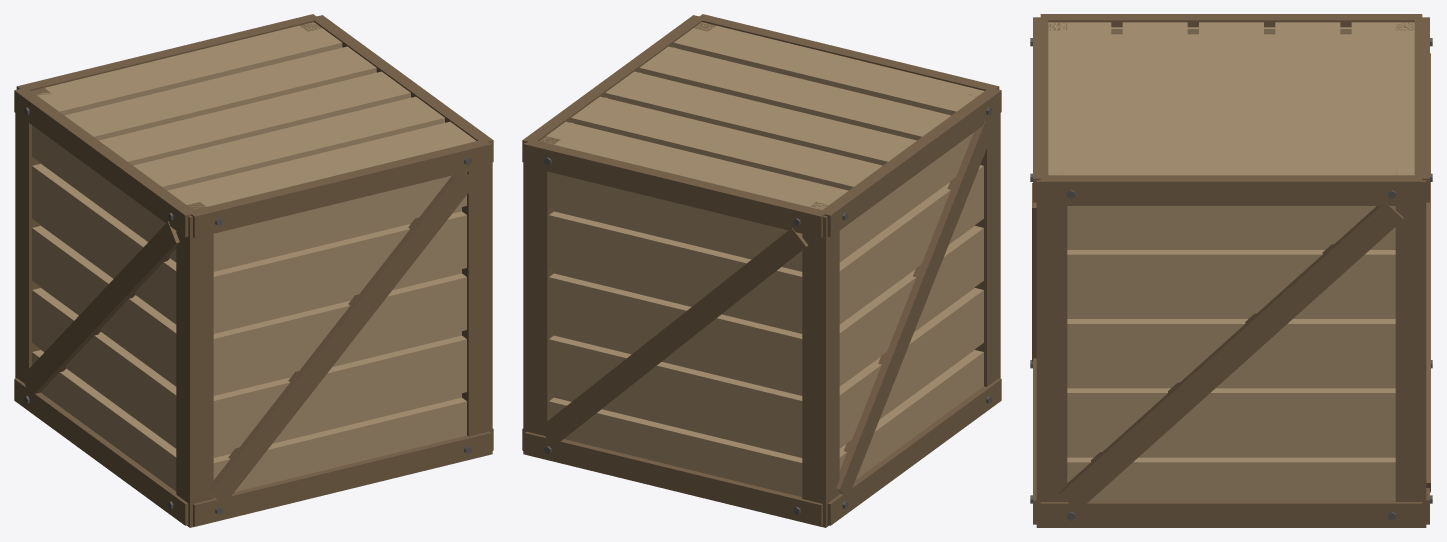
File: crate.glb
3 renders of one model, left to right at view 1: azimuth 30°, elevation 25°; view 2: azimuth 150°, elevation 25°; view 3: azimuth 270°, elevation 25°, orthographic. The views are drawn at different scales.
Parts seen in each view (by area): view 1: crate_planks, crate_battens; view 2: crate_planks, crate_battens; view 3: crate_planks, crate_battens.
Boxes of the visible parts, x1,y1,x2,y2 form: crate_planks: [32, 22, 476, 491]; crate_battens: [14, 14, 493, 527]; crate_planks: [540, 22, 984, 496]; crate_battens: [522, 14, 1001, 527]; crate_planks: [1048, 22, 1414, 500]; crate_battens: [1032, 14, 1430, 527].
Size of the model in its own units: 1.05 by 1 by 1.05.
